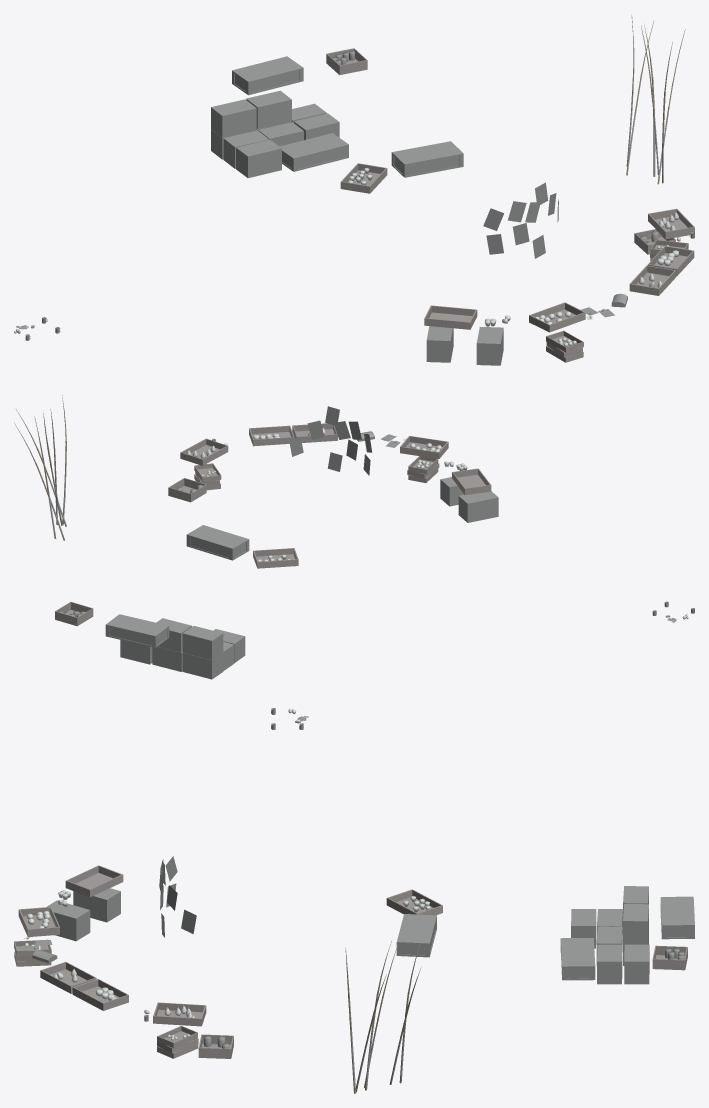
The picture shows the model from 3 angles, top to bottom: view 1: azimuth 30°, elevation 25°; view 2: azimuth 150°, elevation 25°; view 3: azimuth 270°, elevation 25°; orthographic projection. The views are drawn at different scales.
Parts seen in each view (by area): view 1: G:\FFXIV-MapTools\exports\s1f3\bg\ffxiv\sea_s1\fld\s1f3\bgpa (×4); view 2: G:\FFXIV-MapTools\exports\s1f3\bg\ffxiv\sea_s1\fld\s1f3\bgpa (×4); view 3: G:\FFXIV-MapTools\exports\s1f3\bg\ffxiv\sea_s1\fld\s1f3\bgpa (×4).
Part boxes in pixels (x1=…): G:\FFXIV-MapTools\exports\s1f3\bg\ffxiv\sea_s1\fld\s1f3\bgpa (×4): x1=14, y1=14, x2=694, y2=365; G:\FFXIV-MapTools\exports\s1f3\bg\ffxiv\sea_s1\fld\s1f3\bgpa (×4): x1=14, y1=394, x2=694, y2=679; G:\FFXIV-MapTools\exports\s1f3\bg\ffxiv\sea_s1\fld\s1f3\bgpa (×4): x1=14, y1=708, x2=694, y2=1093.
Bounding box in the file's own units: 20.95 × 4.09 × 16.59.
